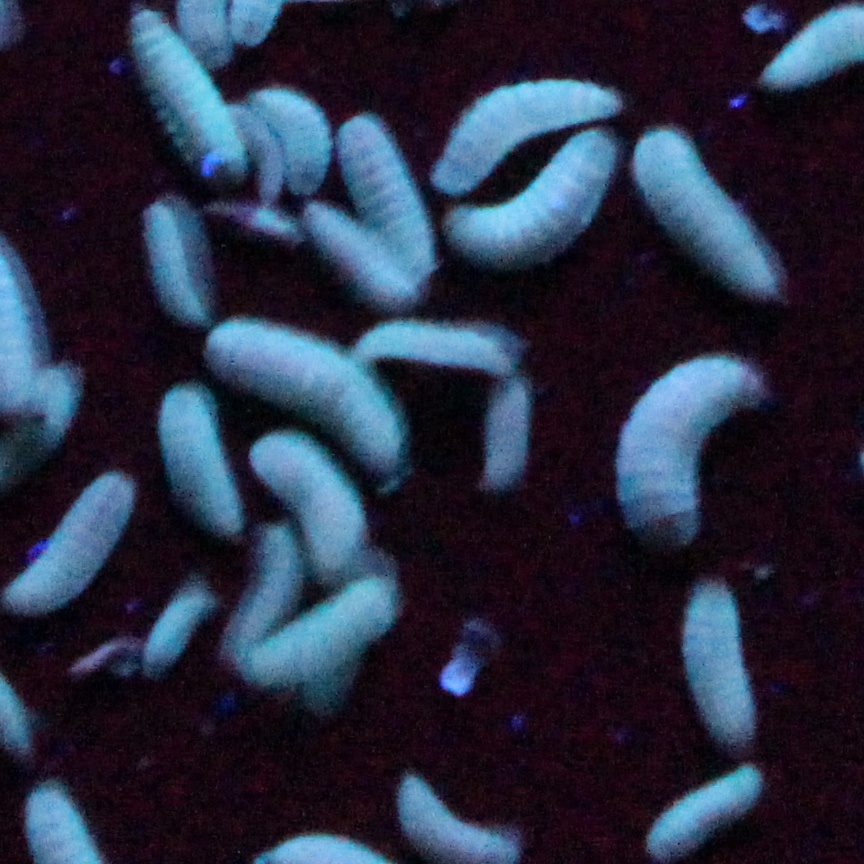larve: (205, 314, 398, 461), (621, 356, 753, 556), (634, 130, 774, 296), (462, 130, 614, 265), (440, 71, 619, 182), (128, 22, 240, 181), (8, 477, 132, 612), (265, 576, 397, 688), (678, 580, 765, 744), (157, 384, 247, 537), (342, 117, 428, 272), (261, 437, 363, 566), (644, 763, 758, 856), (227, 528, 298, 661), (357, 315, 514, 369), (260, 85, 329, 203), (141, 202, 207, 324), (477, 376, 536, 488), (144, 580, 212, 671), (228, 110, 285, 200)
